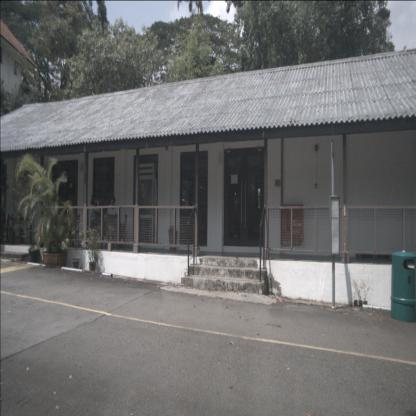human-pedestrian-adult: (90, 194, 107, 247), (104, 196, 119, 250)
